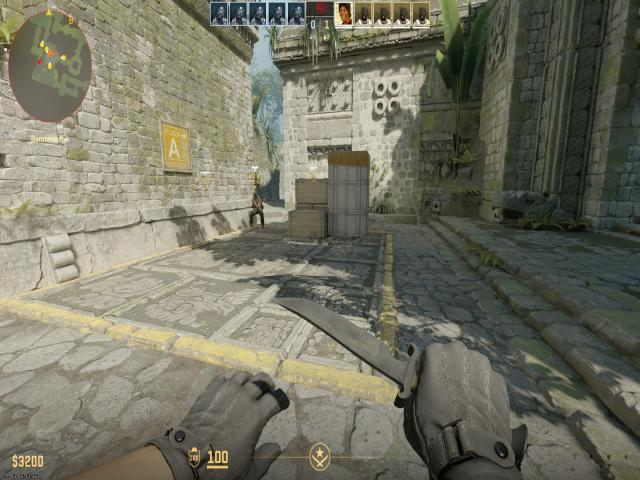T: (246, 185, 265, 234)
T-Head: (252, 190, 258, 200)
